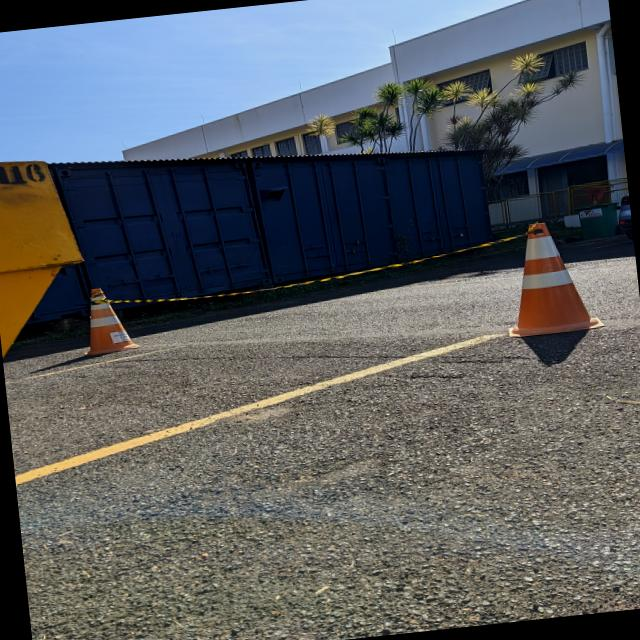cone: (491, 212, 612, 342), (70, 281, 144, 360)
